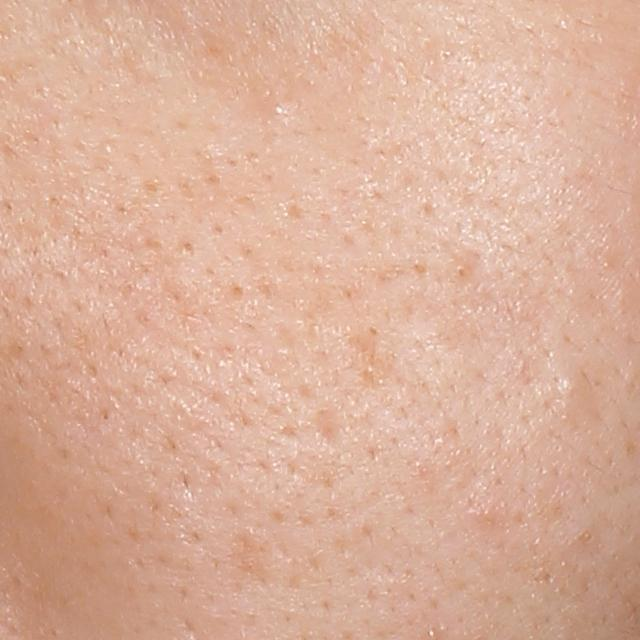atrophic_scar: (313, 408, 344, 449)
comedo: (268, 100, 294, 126), (554, 376, 581, 401)
